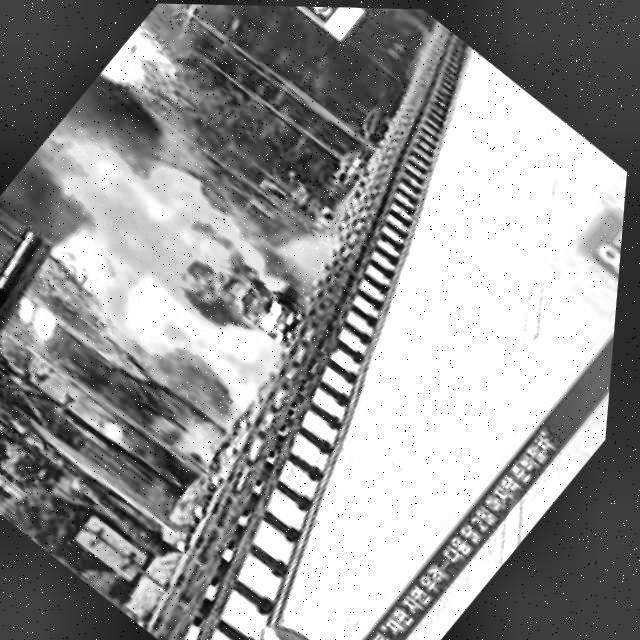Fire: (77, 171, 344, 415), (38, 119, 166, 240)
